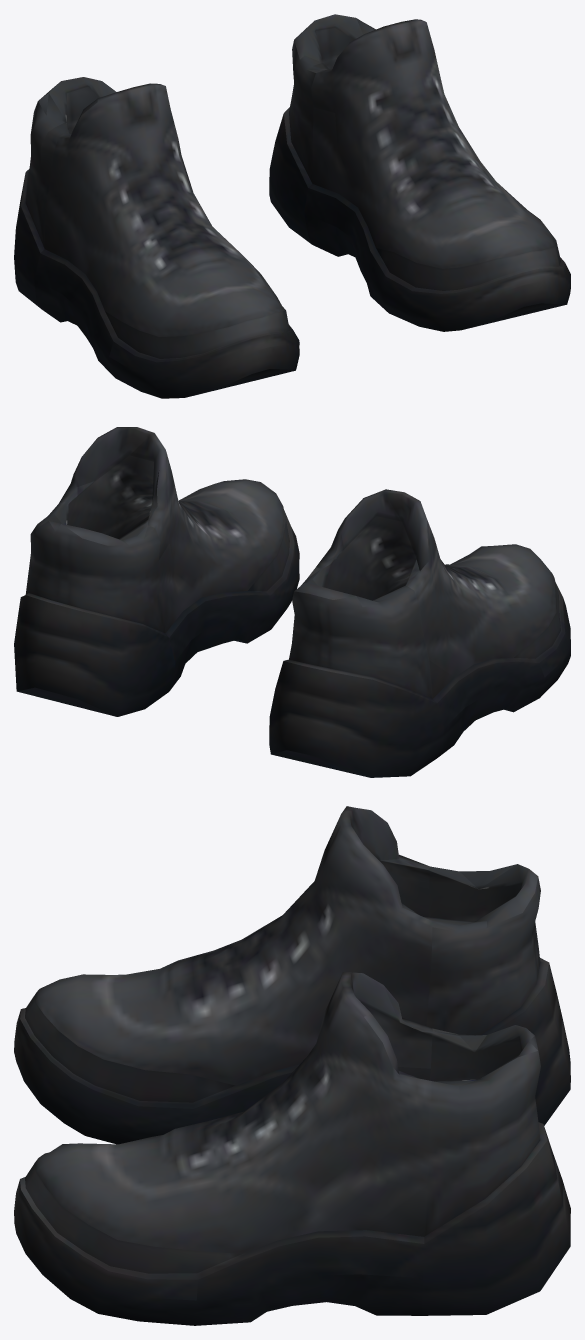
File: shoes1.glb
3 renders of one model, top to bottom at view 1: azimuth 30°, elevation 25°; view 2: azimuth 150°, elevation 25°; view 3: azimuth 270°, elevation 25°, orthographic. The views are drawn at different scales.
Parts seen in each view (by area): view 1: s4studio_mesh_1; view 2: s4studio_mesh_1; view 3: s4studio_mesh_1.
Boxes of the visible parts, <box> form: s4studio_mesh_1: <box>14,14,570,398</box>; s4studio_mesh_1: <box>14,427,570,777</box>; s4studio_mesh_1: <box>14,806,570,1325</box>.
Bounding box in the file's own units: 0.2344 × 0.1174 × 0.2013.
Materials: 1 (1 with a texture image).
